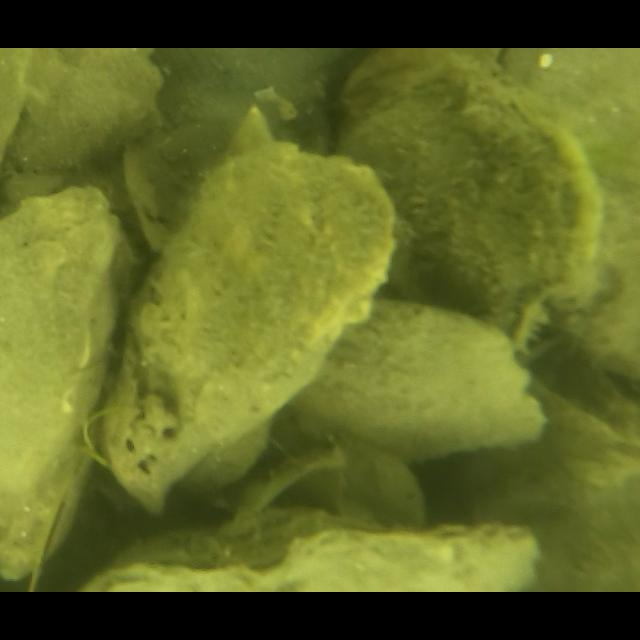Oyster-Closed: (108, 145, 395, 517), (338, 48, 603, 302), (452, 48, 640, 375), (0, 187, 115, 584), (291, 300, 543, 460), (86, 514, 541, 593), (4, 48, 163, 170), (0, 48, 33, 161)
